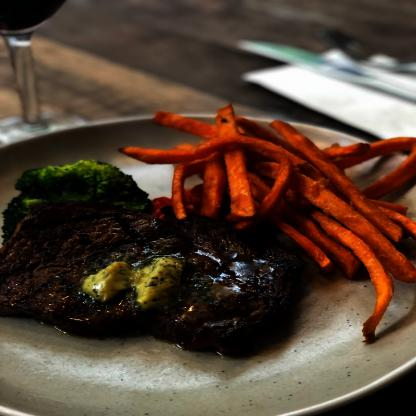Carne: (1, 207, 182, 330), (150, 218, 302, 349)
